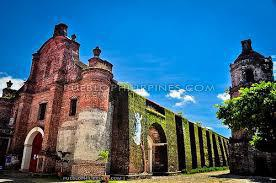santa_maria_church_santa_maria_ilocos_sur: (1, 21, 110, 183)
unfinished_paint: (54, 109, 110, 161)
water_damage_or_mold: (129, 93, 146, 112), (167, 134, 178, 159), (130, 145, 142, 166), (148, 112, 165, 126), (182, 121, 189, 145), (167, 111, 176, 129), (128, 116, 134, 140), (194, 124, 199, 146), (202, 128, 207, 149)
